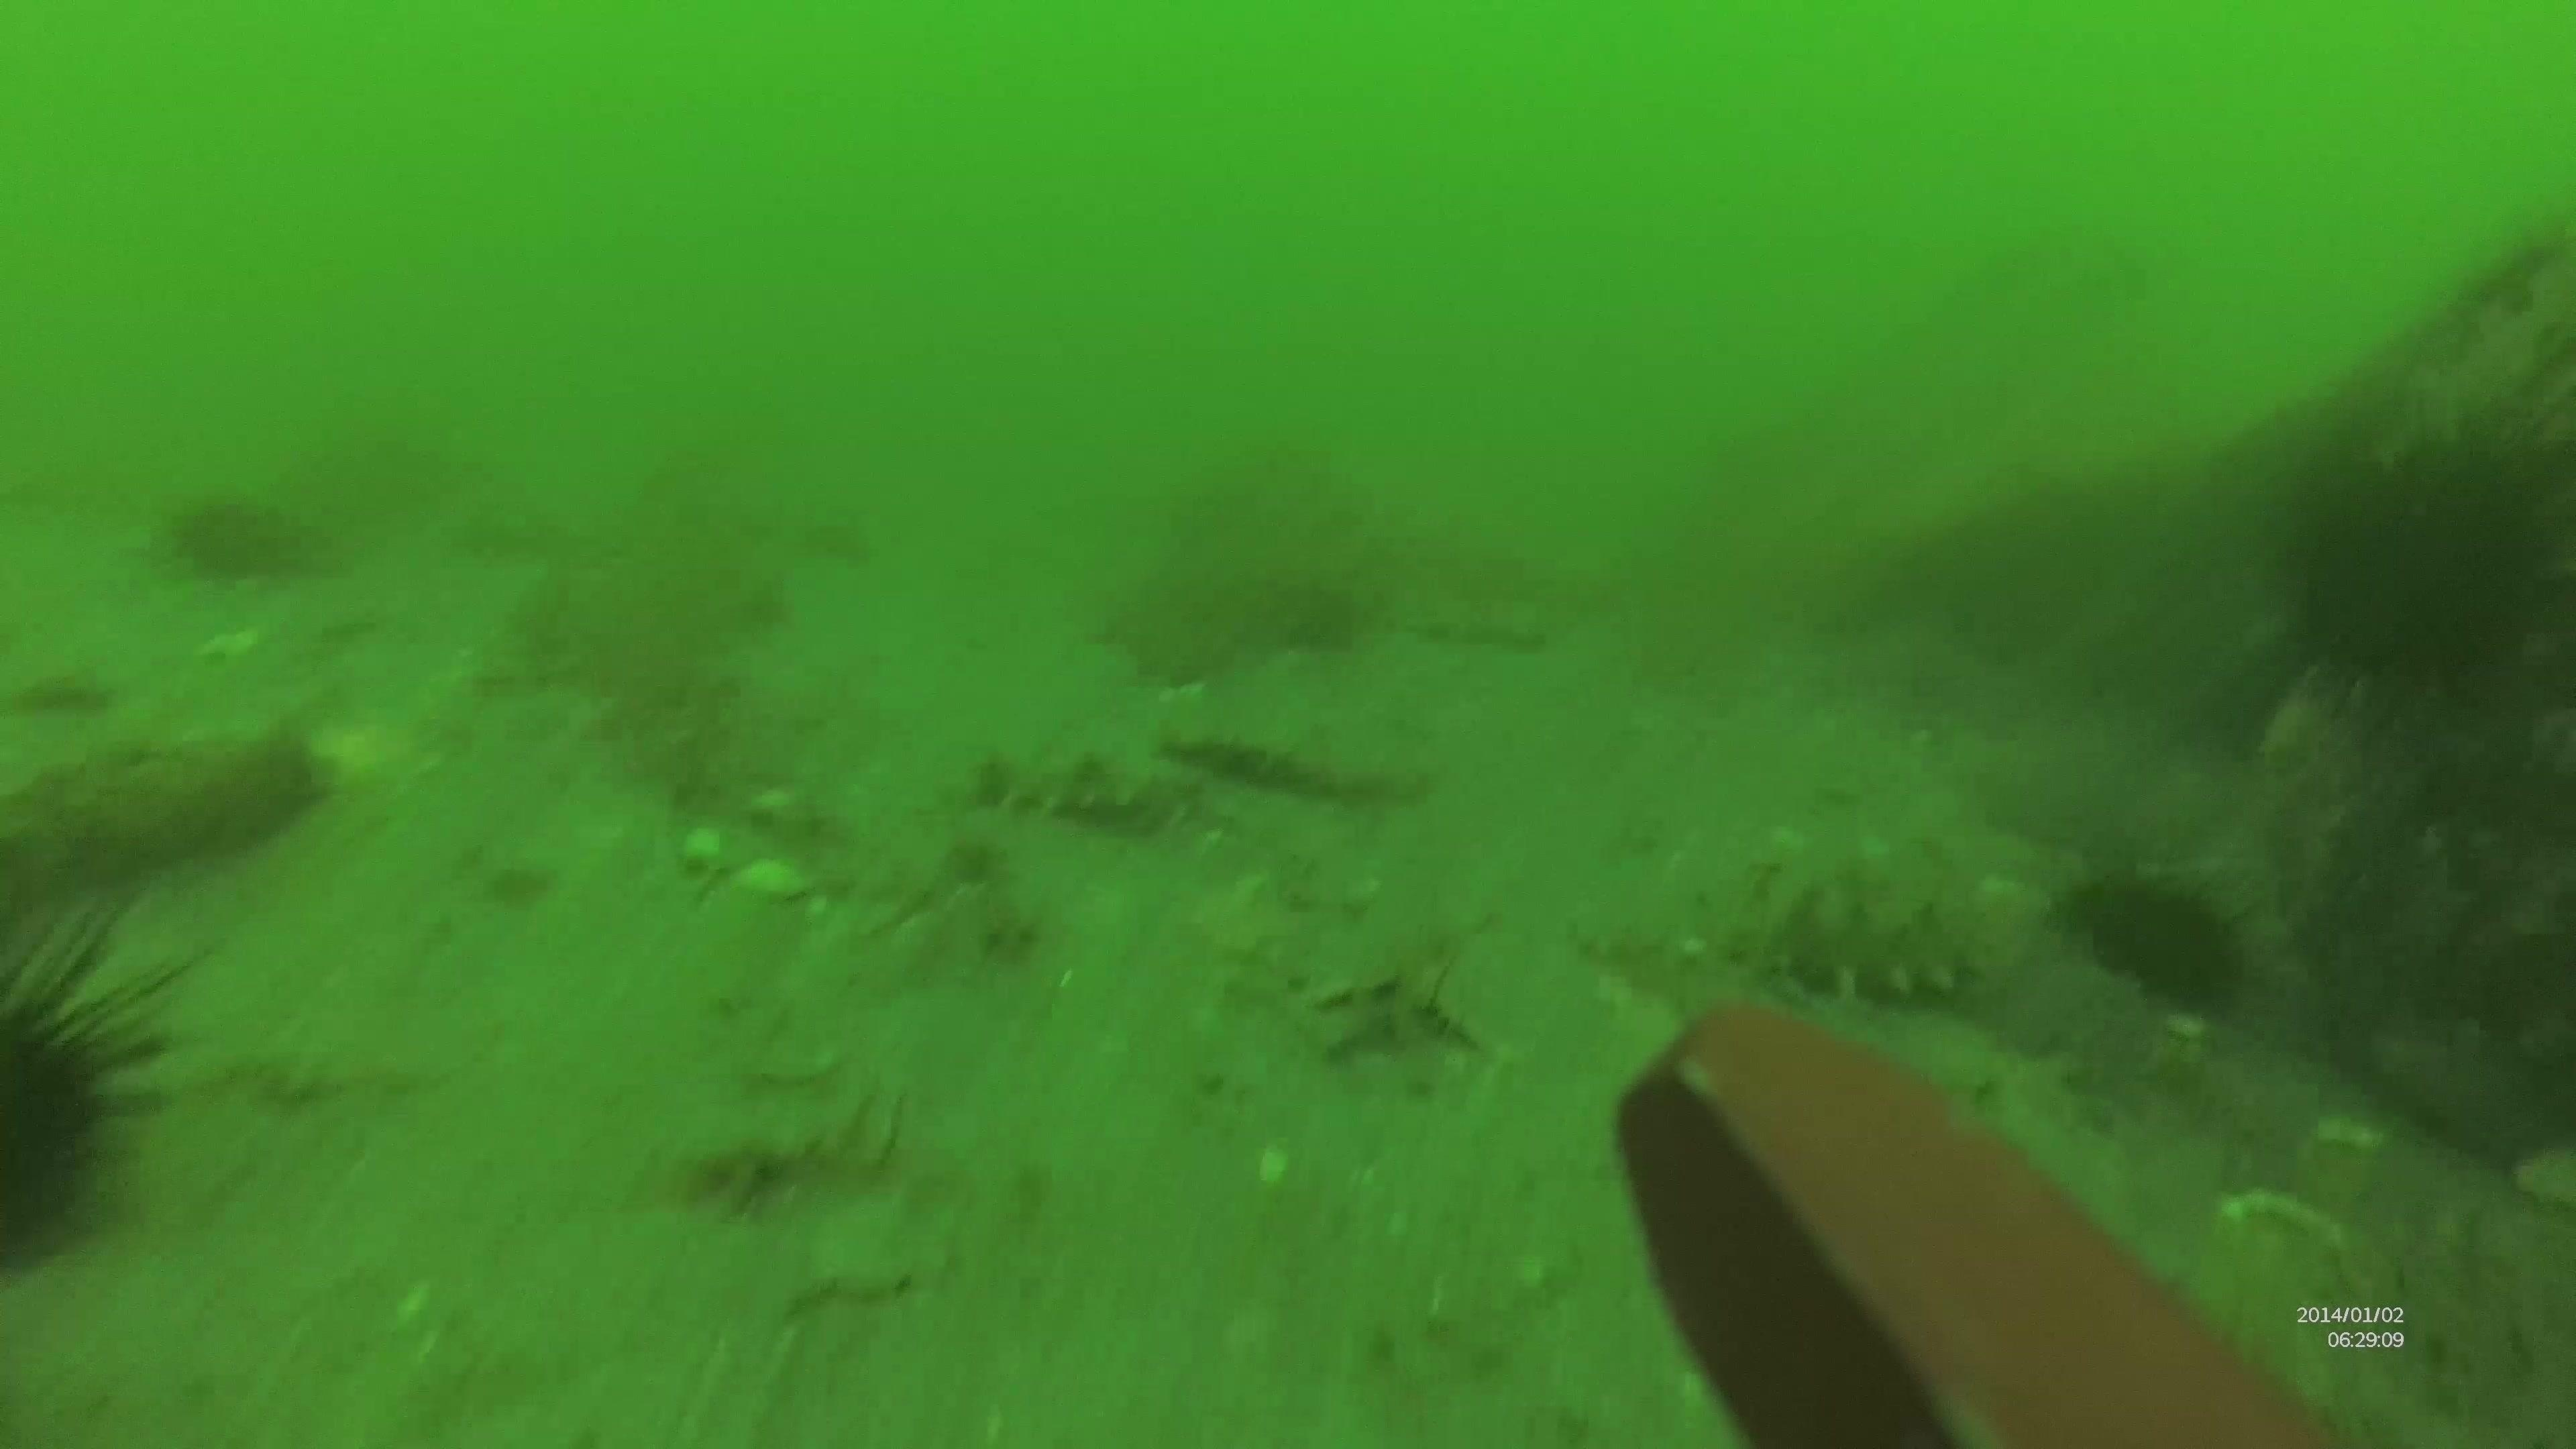echinus: (2265, 396, 2571, 706), (0, 878, 228, 1279), (2058, 862, 2250, 1017), (156, 483, 324, 593)
holothurian: (1720, 865, 2008, 1014), (968, 731, 1210, 837)
scallop: (1162, 704, 1430, 812)
